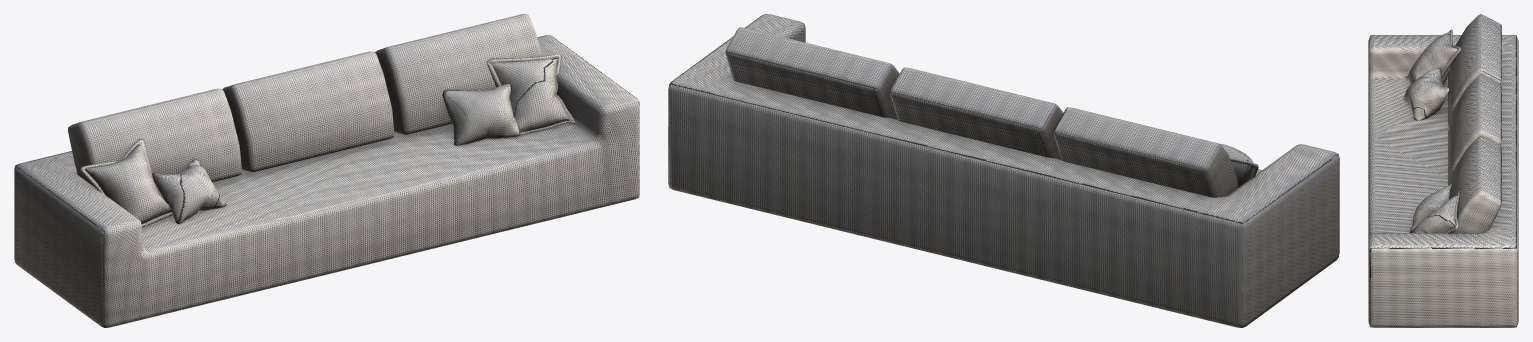
File: Sofa.glb
3 views of the same model, side by side, from view 1: azimuth 30°, elevation 25°; view 2: azimuth 150°, elevation 25°; view 3: azimuth 270°, elevation 25° (orthographic). The views are drawn at different scales.
Visible parts, largest first — view 1: Rectangle001; view 2: Rectangle001; view 3: Rectangle001.
Part boxes in pixels (x1,y1,x2,y2): Rectangle001: [14, 14, 639, 327]; Rectangle001: [668, 14, 1339, 327]; Rectangle001: [1368, 14, 1518, 327].
Size of the model in its own units: 35.3 by 9.21 by 10.45.
1 material, 1 textured.
